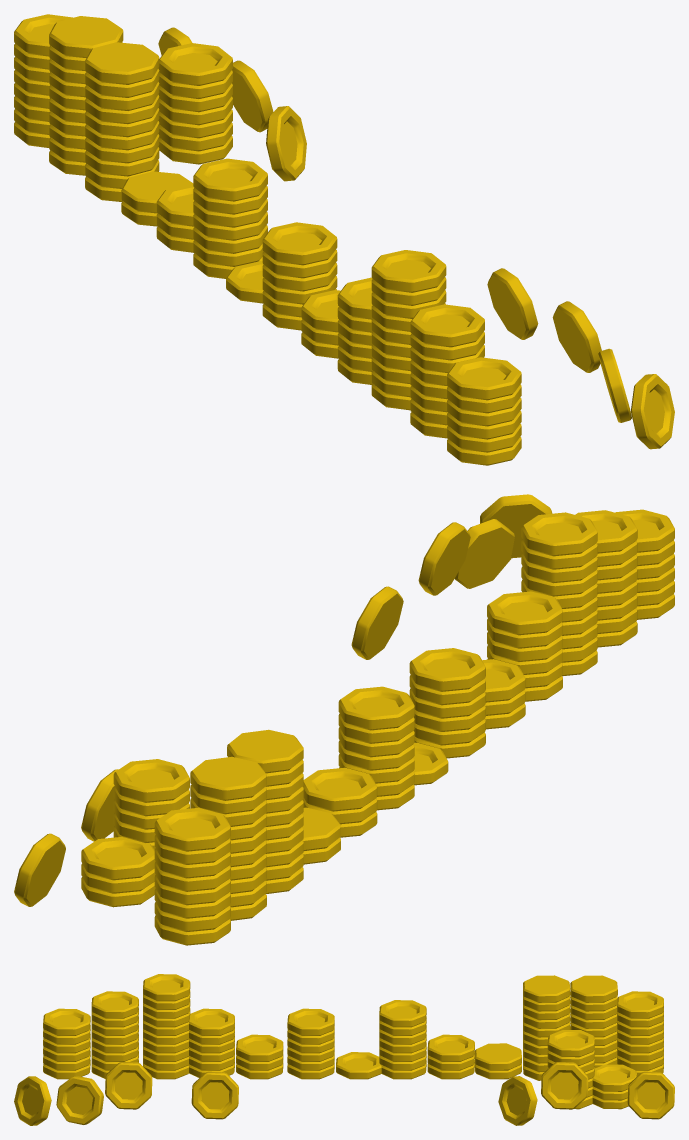
Rendered from gold.fbx.
3 views of the same model, one above another, from view 1: azimuth 30°, elevation 25°; view 2: azimuth 150°, elevation 25°; view 3: azimuth 270°, elevation 25° (orthographic). The views are drawn at different scales.
Visible parts, largest first — view 1: Circle.019; view 2: Circle.019; view 3: Circle.019.
Part boxes in pixels (x1=…): Circle.019: x1=14, y1=14, x2=674, y2=465; Circle.019: x1=14, y1=494, x2=674, y2=945; Circle.019: x1=14, y1=974, x2=674, y2=1125.
Bounding box in the file's own units: 436 × 289 × 1865.
